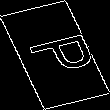P_E: (13, 29, 97, 81)
